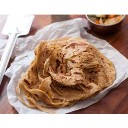parota: (26, 40, 114, 94)
